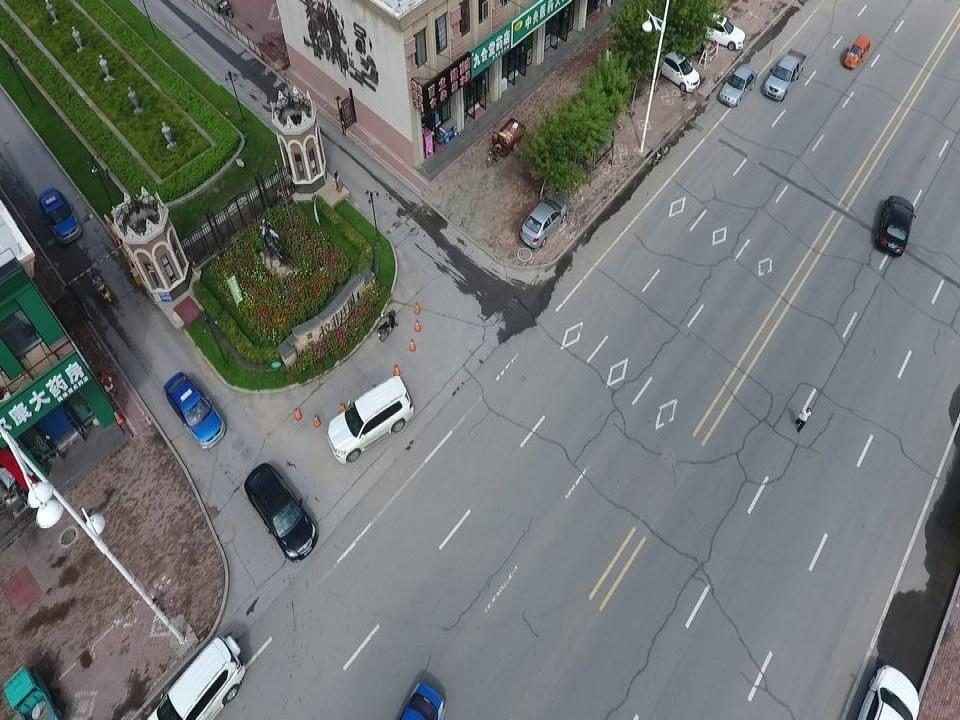car: (137, 634, 246, 720), (326, 375, 414, 464), (243, 461, 318, 564), (163, 371, 226, 448), (856, 662, 920, 720), (37, 185, 82, 244), (875, 195, 916, 257), (389, 681, 446, 720), (694, 13, 746, 50), (657, 51, 700, 92), (718, 62, 758, 106)
van: (762, 48, 806, 103)
